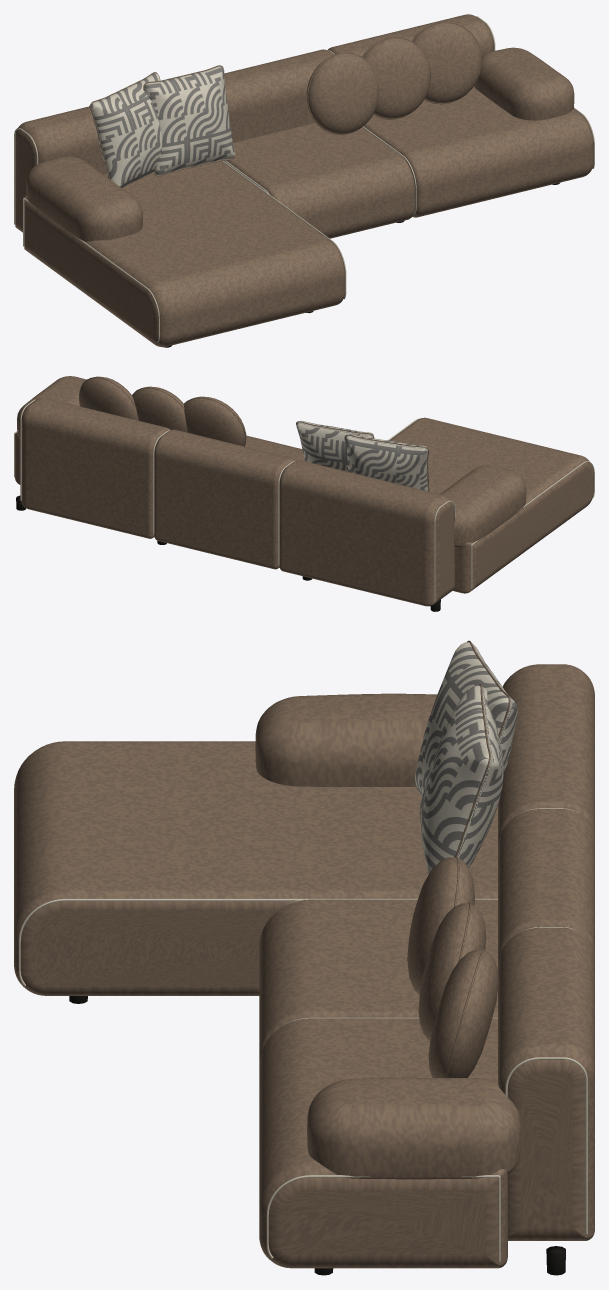
The model's file is chaise.glb.
3 views of the same model, one above another, from view 1: azimuth 30°, elevation 25°; view 2: azimuth 150°, elevation 25°; view 3: azimuth 270°, elevation 25° (orthographic). The views are drawn at different scales.
Visible parts, largest first — view 1: fabric, pillows (×2), accent, trim; view 2: fabric, pillows (×2), accent, trim; view 3: fabric, pillows (×2), accent, trim, legs.
Part boxes in pixels (x1,y1,x2,y2): fabric: (15, 14, 593, 347); pillows (×2): (90, 21, 481, 188); accent: (89, 66, 235, 187); trim: (14, 16, 594, 342); fabric: (15, 376, 593, 606); pillows (×2): (79, 376, 429, 491); accent: (296, 420, 428, 491); trim: (14, 399, 594, 601); fabric: (14, 664, 594, 1268); pillows (×2): (407, 640, 510, 1077); accent: (414, 642, 517, 874); trim: (18, 808, 587, 1261); legs: (69, 996, 565, 1275).
Bounding box in the file's own units: 3.2 × 0.9434 × 1.8.
Materials: 5 (5 with a texture image).
